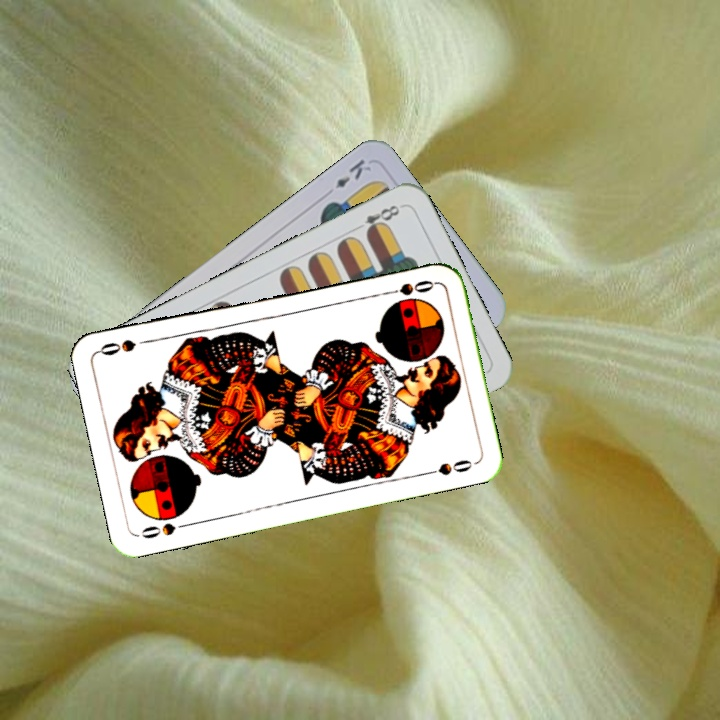E8: (350, 201, 405, 238)
EK: (331, 155, 374, 191)
SO: (135, 518, 193, 542), (379, 276, 438, 298)
